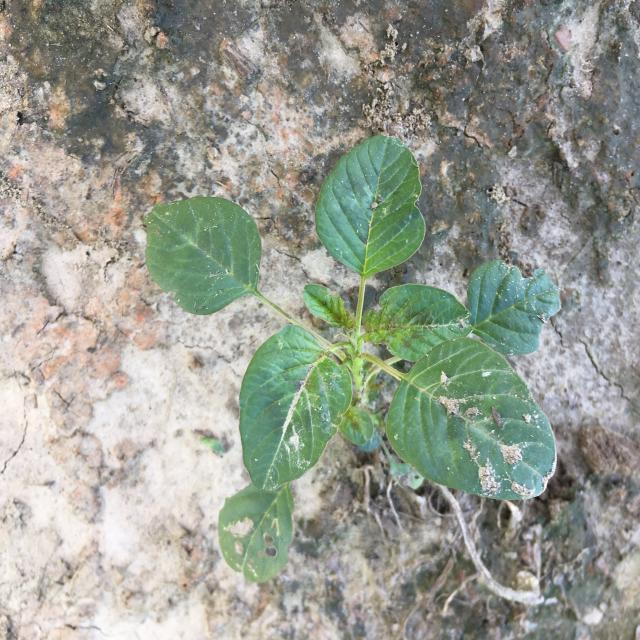PalmerAmaranth: (144, 134, 561, 584)
